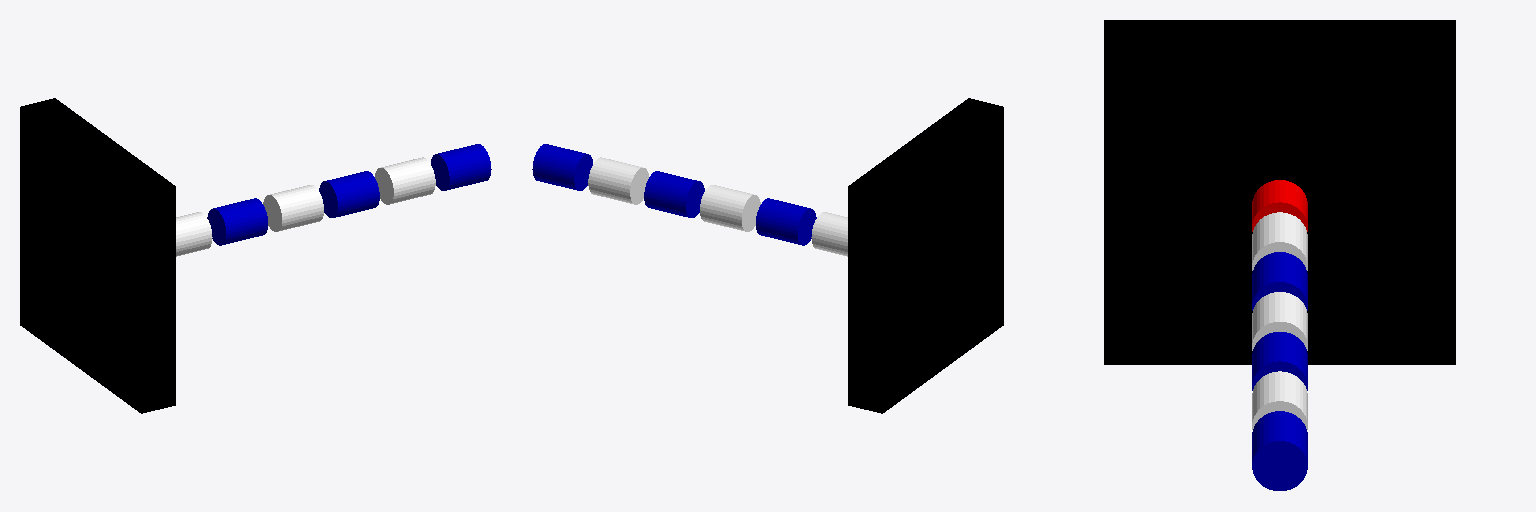
robot.urdf — Robot_snake_sim:
<?xml version="1.0"?>

<robot name="Robot_snake_sim">

  <material name="blue">
    <color rgba="0 0 0.8 1"/>
  </material>
  <material name="black">
    <color rgba="0 0 0 1"/>
  </material>
  <material name="white">
    <color rgba="1 1 1 1"/>
  </material>
    <material name="red">
    <color rgba="1 0 0 1"/>
  </material>


  <link name="base_link" >
      <visual>
      <geometry>
        <box size="0.1 0.6 0.6"/>
      </geometry>
      <material name="black"/>
    </visual>
    <collision>
      <geometry>
        <box size="0.1 0.6 0.6"/>
      </geometry>
    </collision>
    <inertial>
      <origin xyz="0 0 0" rpy="0 0 0"/>
      <mass value="1.0" />
      <inertia ixx="0.0741666666667" ixy="0.0" ixz="0.0" iyy="0.0585416666667" iyz="0.0" izz="0.0260416666667"/>
   </inertial>
  </link>
  
  <link name="link2" >
      <visual>
      <geometry>
        <cylinder length="0.12" radius="0.0475"/>
      </geometry>
     <origin rpy="0 1.57079632679 0" xyz="0.08 0 0"/>
      <material name="red"/>
    </visual>
    <collision>
      <geometry>
        <cylinder length="0.12" radius="0.0475"/>
      </geometry>
    </collision>
<inertial>
      <origin xyz="0 0 0" rpy="0 0 0"/>
      <mass value="1.0" />
      <inertia ixx="0.0741666666667" ixy="0.0" ixz="0.0" iyy="0.0585416666667" iyz="0.0" izz="0.0260416666667"/>
</inertial>
  </link>
  
  <link name="link3" >
      <visual>
      <geometry>
        <cylinder length="0.12" radius="0.0475"/>
      </geometry>
      <origin rpy="0 1.57079632679 0" xyz="0.08 0 0"/>
      <material name="white"/>
    </visual>
    <collision>
      <geometry>
        <cylinder length="0.12" radius="0.0475"/>
      </geometry>
    </collision>
<inertial>
      <origin xyz="0 0 0" rpy="0 0 0"/>
      <mass value="1.0" />
      <inertia ixx="0.0741666666667" ixy="0.0" ixz="0.0" iyy="0.0585416666667" iyz="0.0" izz="0.0260416666667"/>
</inertial>
  </link>
  
  <link name="link4" >
      <visual>
      <geometry>
        <cylinder length="0.12" radius="0.0475"/>
      </geometry>
      <origin rpy="0 1.57079632679 0" xyz="0.08 0 0"/>
      <material name="blue"/>
    </visual>
    <collision>
      <geometry>
        <cylinder length="0.12" radius="0.0475"/>
      </geometry>
    </collision>
    <inertial>
      <origin xyz="0 0 0" rpy="0 0 0"/>
      <mass value="1.0" />
      <inertia ixx="0.0741666666667" ixy="0.0" ixz="0.0" iyy="0.0585416666667" iyz="0.0" izz="0.0260416666667"/>
   </inertial>
  </link>

  <link name="link5" >
      <visual>
      <geometry>
        <cylinder length="0.12" radius="0.0475"/>
      </geometry>
      <origin rpy="0 1.57079632679 0" xyz="0.08 0 0"/>
      <material name="white"/>
    </visual>
    <collision>
      <geometry>
        <cylinder length="0.12" radius="0.0475"/>
      </geometry>
    </collision>
<inertial>
      <origin xyz="0 0 0" rpy="0 0 0"/>
      <mass value="1.0" />
      <inertia ixx="0.0741666666667" ixy="0.0" ixz="0.0" iyy="0.0585416666667" iyz="0.0" izz="0.0260416666667"/>
</inertial>
  </link>

  <link name="link6" >
      <visual>
      <geometry>
        <cylinder length="0.12" radius="0.0475"/>
      </geometry>
      <origin rpy="0 1.57079632679 0" xyz="0.08 0 0"/>
      <material name="blue"/>
    </visual>
    <collision>
      <geometry>
        <cylinder length="0.12" radius="0.0475"/>
      </geometry>
    </collision>
<inertial>
      <origin xyz="0 0 0" rpy="0 0 0"/>
      <mass value="1.0" />
      <inertia ixx="0.0741666666667" ixy="0.0" ixz="0.0" iyy="0.0585416666667" iyz="0.0" izz="0.0260416666667"/>
</inertial>
  </link>

  <link name="link7" >
      <visual>
      <geometry>
        <cylinder length="0.12" radius="0.0475"/>
      </geometry>
      <origin rpy="0 1.57079632679 0" xyz="0.08 0 0"/>
      <material name="white"/>
    </visual>
    <collision>
      <geometry>
        <cylinder length="0.12" radius="0.0475"/>
      </geometry>
    </collision>
<inertial>
      <origin xyz="0 0 0" rpy="0 0 0"/>
      <mass value="1.0" />
      <inertia ixx="0.0741666666667" ixy="0.0" ixz="0.0" iyy="0.0585416666667" iyz="0.0" izz="0.0260416666667"/>
</inertial>
  </link>

  <link name="link8" >
      <visual>
      <geometry>
        <cylinder length="0.12" radius="0.0475"/>
      </geometry>
      <origin rpy="0 1.57079632679 0" xyz="0.08 0 0"/>
      <material name="blue"/>
    </visual>
    <collision>
      <geometry>
        <cylinder length="0.12" radius="0.0475"/>
      </geometry>
    </collision>
<inertial>
      <origin xyz="0 0 0" rpy="0 0 0"/>
      <mass value="1.0" />
      <inertia ixx="0.0741666666667" ixy="0.0" ixz="0.0" iyy="0.0585416666667" iyz="0.0" izz="0.0260416666667"/>
</inertial>
  </link>



  <joint name="joint1" type="prismatic">
    <parent link="base_link"/>
    <child link="link2"/>
    <limit effort="1000.0" lower="0" upper="2" velocity="0.5"/>
    <axis xyz="1 0 0" />
    <origin xyz="0 0 0" rpy="0 0 0" />
  </joint>

  <joint name="joint2" type="continuous">
    <parent link="link2"/>
    <child link="link3"/>
    <origin xyz="0.16 0 0" rpy="0 0 0" />
    <axis xyz="0 0 1" />
  </joint>

  <joint name="joint3" type="continuous">
    <parent link="link3"/>
    <child link="link4"/>
    <origin xyz="0.16 0 0" rpy="0 0 0" />
    <axis xyz="0 1 0" />
  </joint>

  <joint name="joint4" type="continuous">
    <parent link="link4"/>
    <child link="link5"/>
    <origin xyz="0.16 0 0" rpy="0 0 0" />
    <axis xyz="0 0 1" />
  </joint>

  <joint name="joint5" type="continuous">
    <parent link="link5"/>
    <child link="link6"/>
    <origin xyz="0.16 0 0" rpy="0 0 0" />
    <axis xyz="0 1 0" />
  </joint>

  <joint name="joint6" type="continuous">
    <parent link="link6"/>
    <child link="link7"/>
    <origin xyz="0.16 0 0" rpy="0 0 0" />
    <axis xyz="0 0 1" />
  </joint>
  <joint name="joint7" type="continuous">
    <parent link="link7"/>
    <child link="link8"/>
    <origin xyz="0.16 0 0" rpy="0 0 0" />
    <axis xyz="0 1 0" />
  </joint>
  
  
<gazebo reference="base_link">
<material>Gazebo/White</material>
</gazebo>
<gazebo reference="link2">
<material>Gazebo/White</material>
</gazebo>
<gazebo reference="link3">
<material>Gazebo/White</material>
</gazebo>
<gazebo reference="link4">
<material>Gazebo/White</material>
</gazebo>
<gazebo reference="link5">
<material>Gazebo/White</material>
</gazebo>
<gazebo reference="link6">
<material>Gazebo/White</material>
</gazebo>
<gazebo reference="link7">
<material>Gazebo/White</material>
</gazebo>
<gazebo reference="link8">
<material>Gazebo/White</material>
</gazebo>

  <!-- ros_control plugin -->
  <gazebo>
    <plugin name="gazebo_ros_control" filename="libgazebo_ros_control.so">
      <robotNamespace>/shmulik</robotNamespace>
    </plugin>
  </gazebo>

</robot>

--- Render facts (derived) ---
The picture shows the robot from 3 angles, left to right: view 1: azimuth 30°, elevation 25°; view 2: azimuth 150°, elevation 25°; view 3: azimuth 270°, elevation 25°; orthographic projection.
Robot: Robot_snake_sim — 8 links, 7 joints (6 continuous, 1 prismatic); root link base_link; default pose: every joint at zero.
Links seen in each view (by area): view 1: base_link, link7, link4, link5, link6, link8, link3; view 2: base_link, link7, link4, link5, link6, link8, link3; view 3: base_link, link8, link4, link5, link6, link3, link7, link2.
Boxes of the visible links, x1,y1,x2,y2 form: base_link: [20, 98, 175, 413]; link7: [375, 157, 435, 204]; link4: [207, 198, 267, 245]; link5: [263, 185, 323, 231]; link6: [319, 171, 379, 217]; link8: [431, 144, 491, 190]; link3: [176, 212, 212, 256]; base_link: [848, 98, 1003, 413]; link7: [588, 157, 648, 204]; link4: [756, 198, 816, 245]; link5: [700, 185, 760, 231]; link6: [644, 171, 704, 217]; link8: [532, 144, 592, 190]; link3: [811, 212, 847, 256]; base_link: [1104, 20, 1455, 364]; link8: [1252, 411, 1307, 490]; link4: [1252, 252, 1307, 310]; link5: [1252, 292, 1307, 350]; link6: [1252, 332, 1307, 390]; link3: [1252, 212, 1307, 270]; link7: [1252, 371, 1307, 429]; link2: [1252, 180, 1307, 231].
Size in the robot's own frame: 1.15 by 0.6 by 0.6 metres.
Geometry: primitives only (box / cylinder / sphere), no mesh files.
